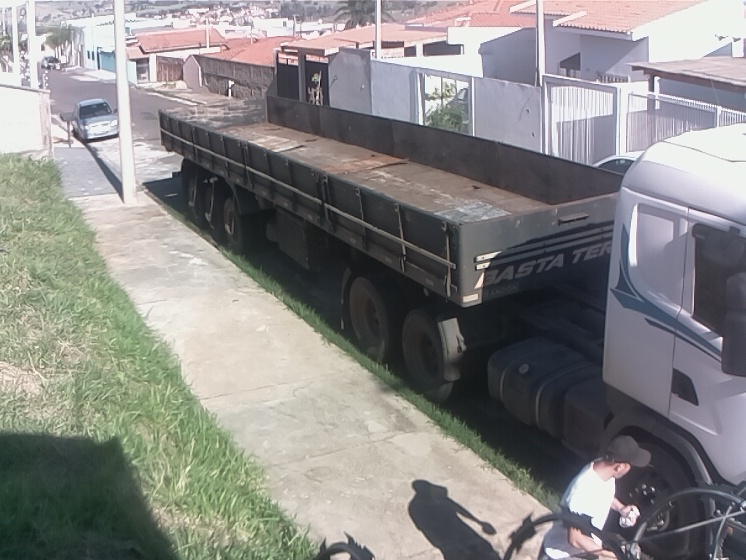person: (535, 432, 642, 560)
